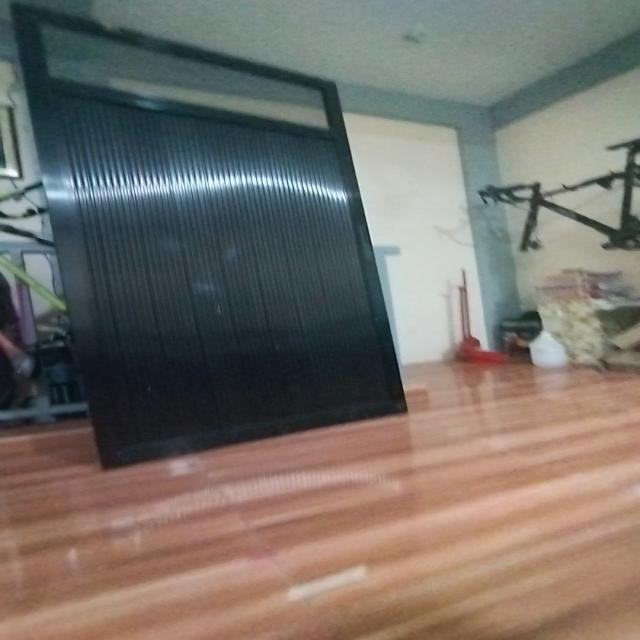door: (11, 15, 424, 455)
